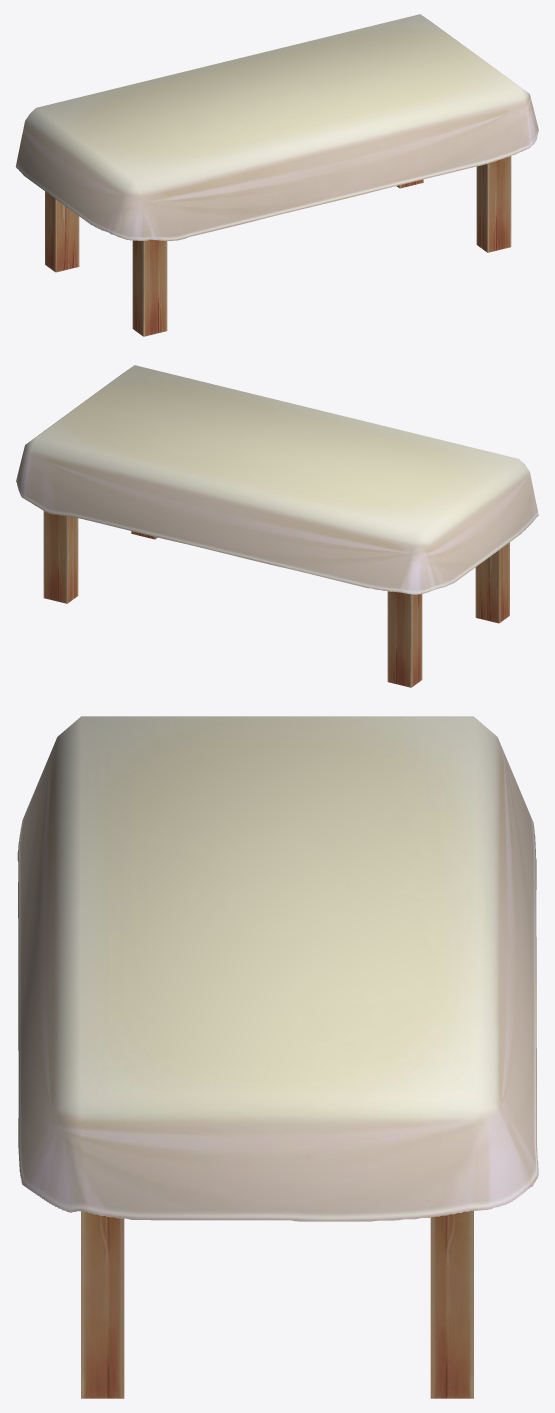
The model's file is SE_Table_02b.fbx.
3 renders of one model, top to bottom at view 1: azimuth 30°, elevation 25°; view 2: azimuth 150°, elevation 25°; view 3: azimuth 270°, elevation 25°, orthographic. The views are drawn at different scales.
Parts seen in each view (by area): view 1: SE_Table_02b; view 2: SE_Table_02b; view 3: SE_Table_02b.
Boxes of the visible parts, x1=… form: SE_Table_02b: x1=15, y1=14, x2=538, y2=336; SE_Table_02b: x1=16, y1=365, x2=538, y2=687; SE_Table_02b: x1=17, y1=716, x2=538, y2=1398.
Size of the model in its own units: 4.84 by 1.7 by 2.56.
